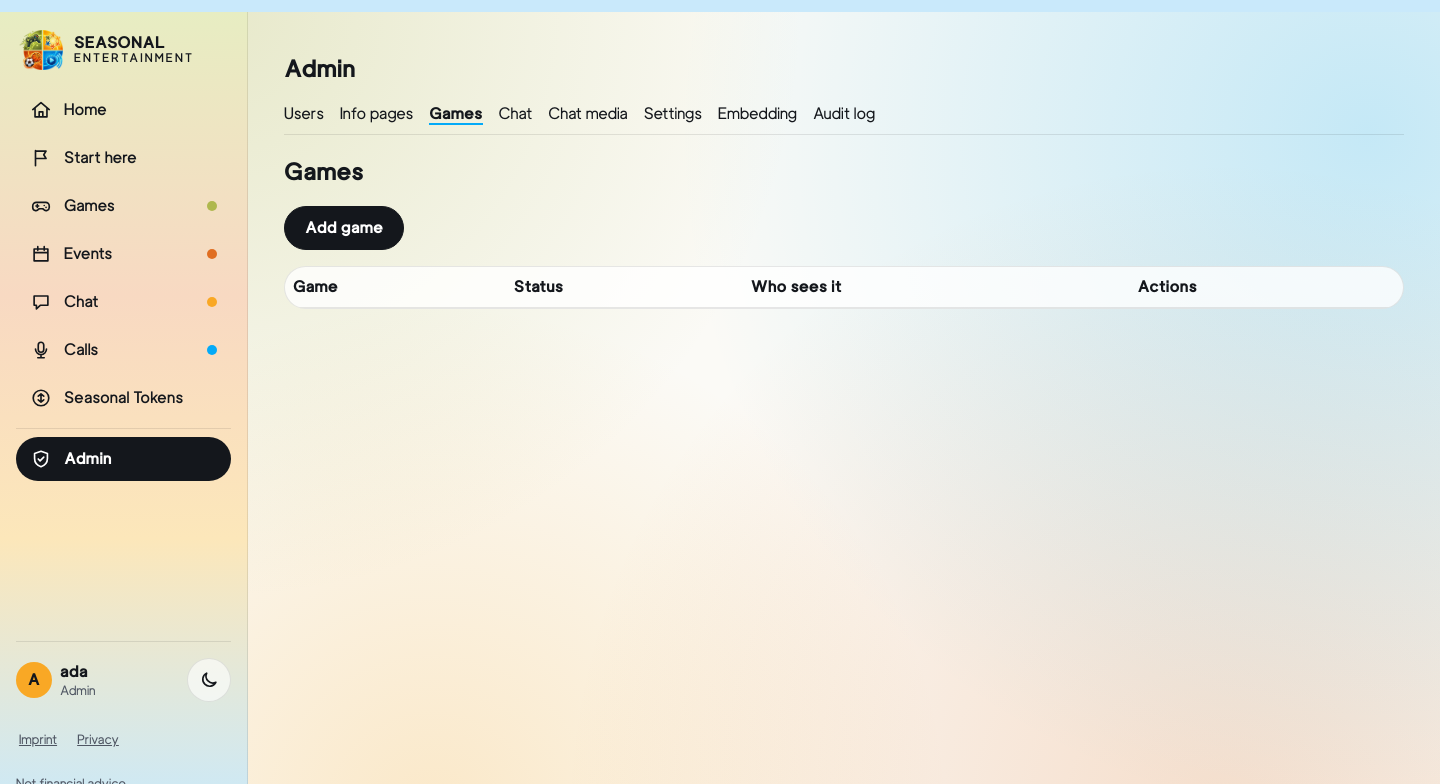
Test: admin games › adds a game with the chosen fields
The width and height of the screenshot is (1440, 784).
Click the button "Add game". click: [344, 228]
box: [284,206,404,250]
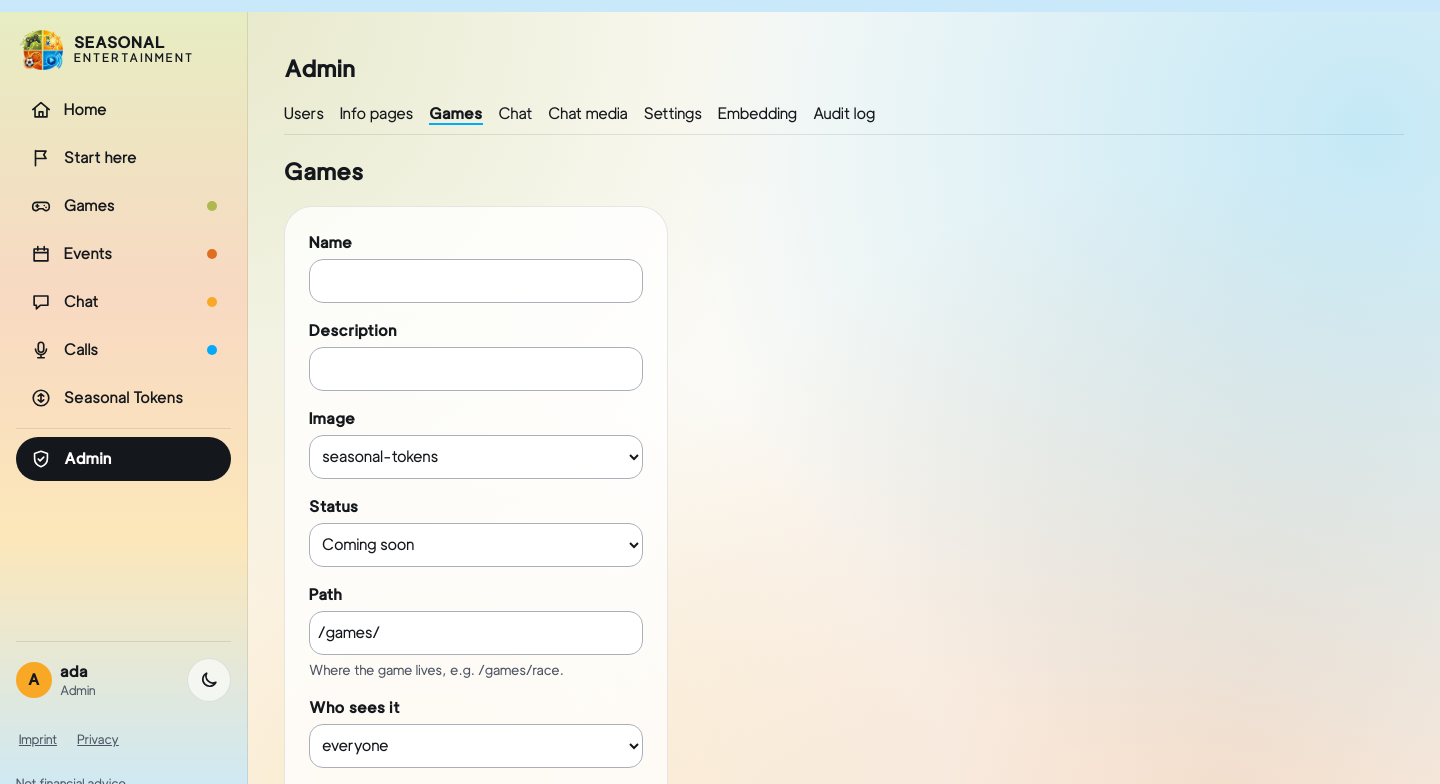
Type "Quiz" into the field labelled "Name". click: [476, 280]
box: [309,258,643,302]
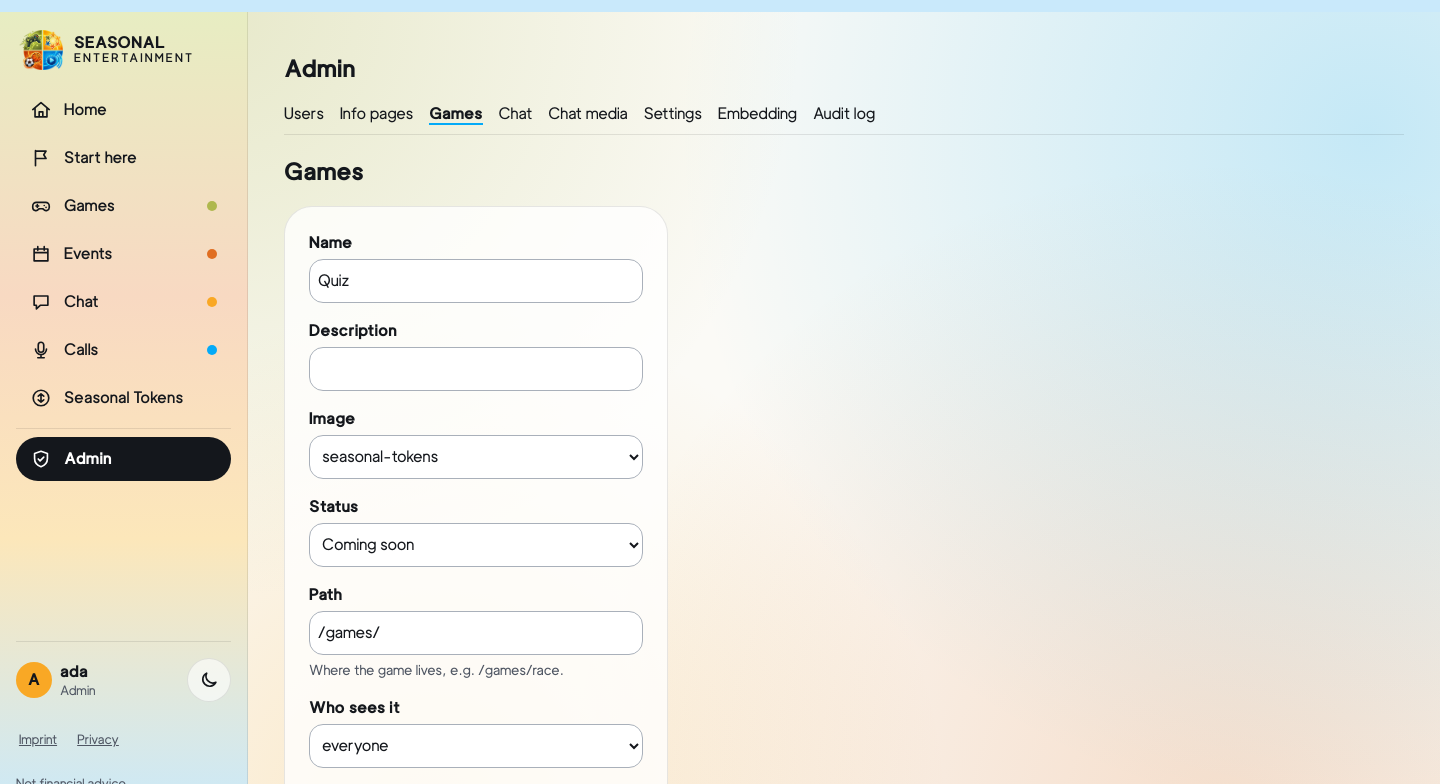
Replace the text in the field labelled "Path" with "/games/quiz". click: [476, 632]
box: [309,610,643,654]
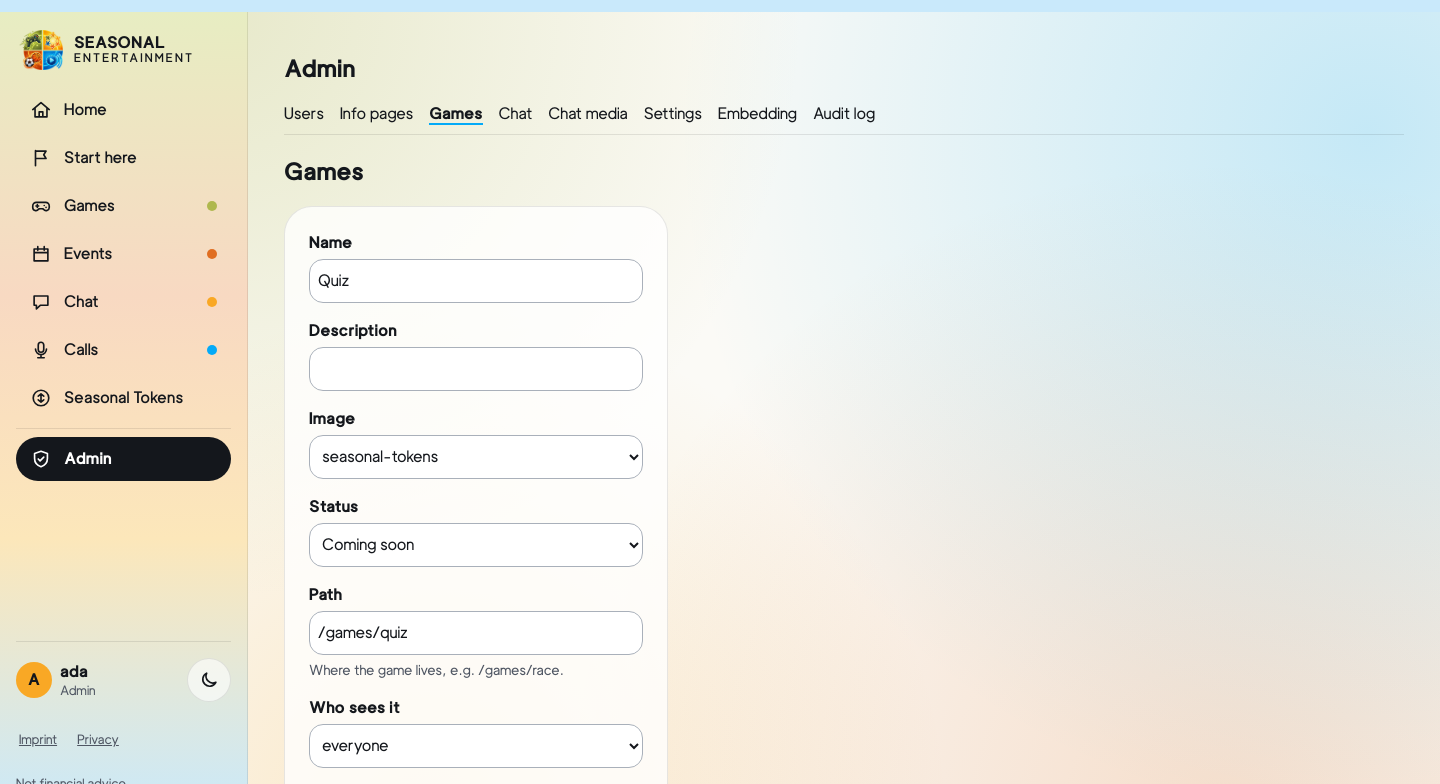
Select "Available" in the dropdown labelled "Status". click: [476, 544]
box: [309,522,643,566]
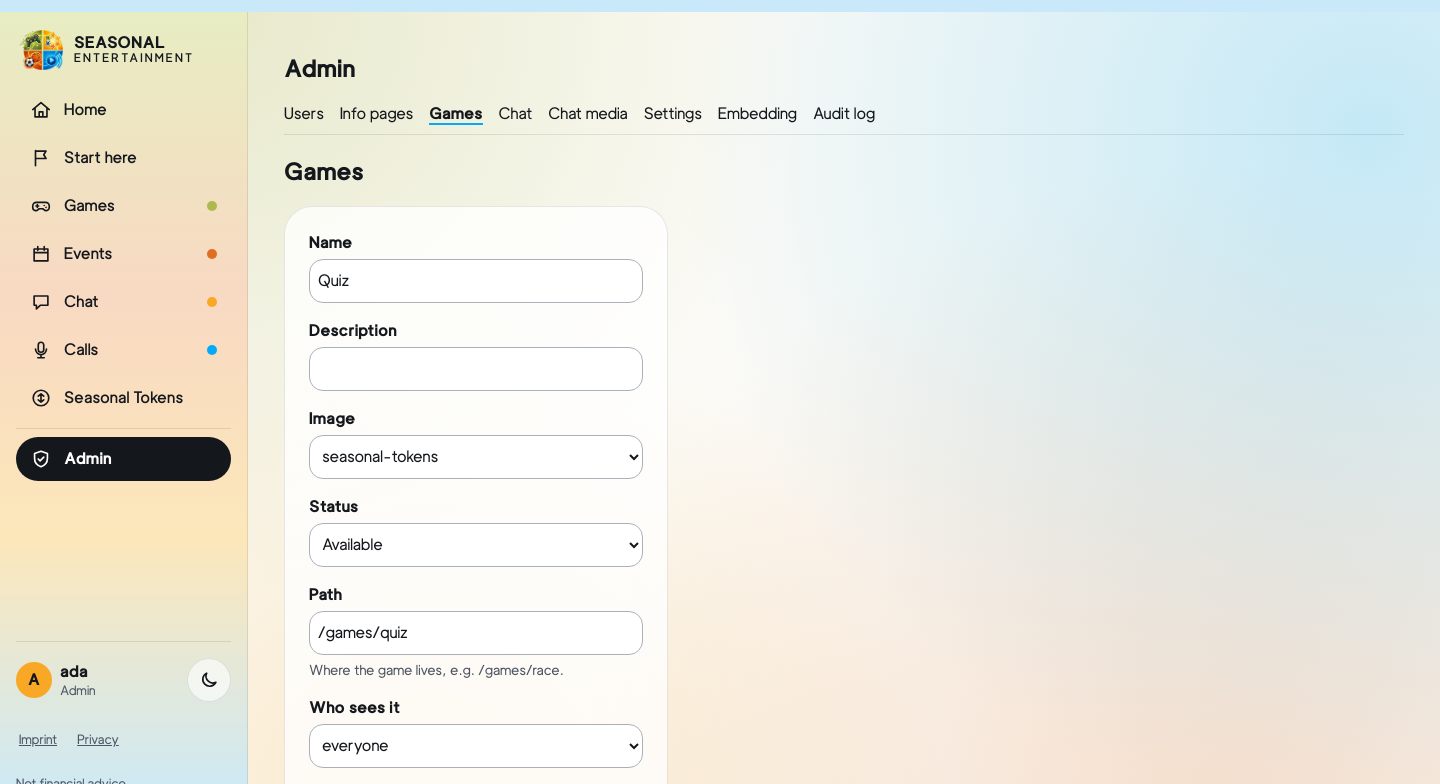
Select "members" in the dropdown labelled "Who sees it". click: [476, 746]
box: [309,724,643,768]
(page scrolled)
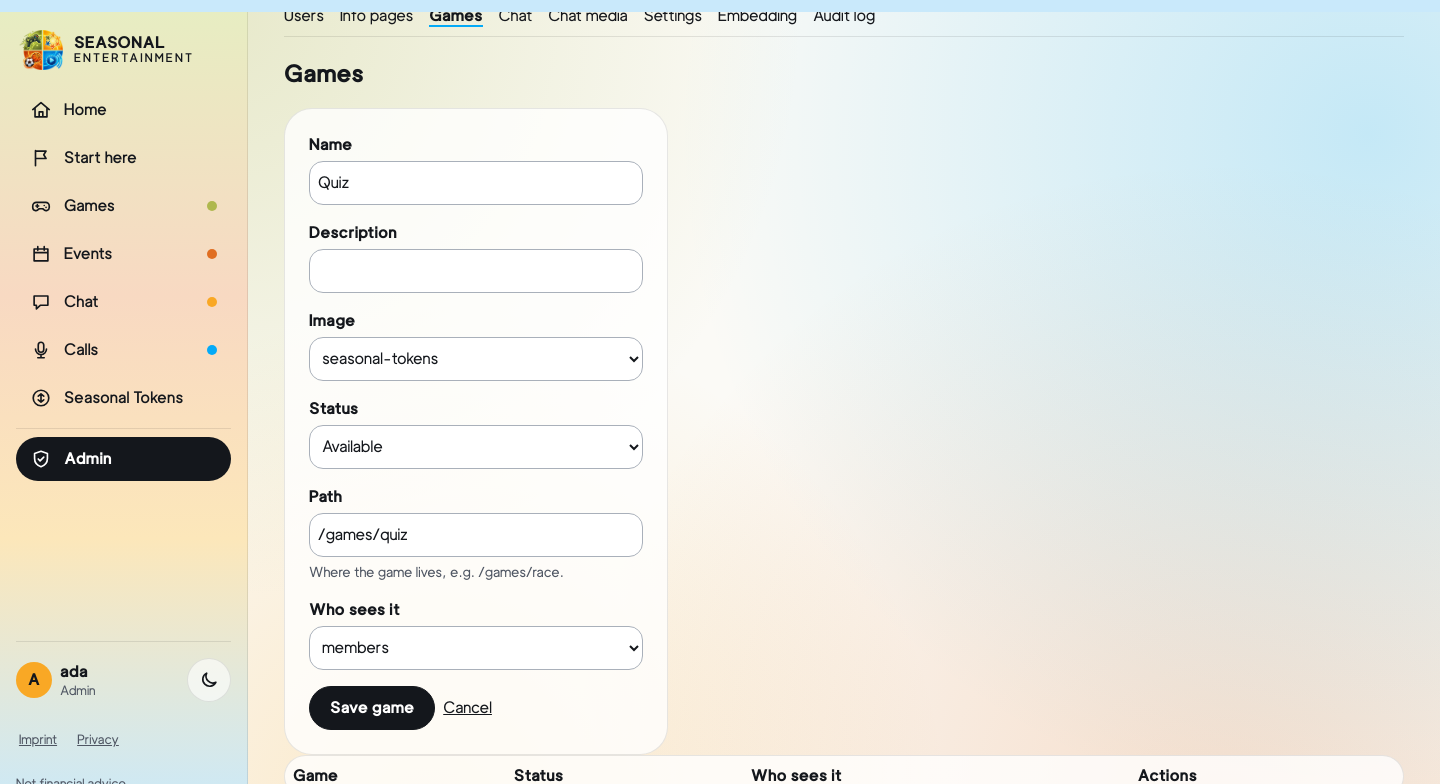
Click the button "Save game". click: [372, 708]
box: [309,686,435,730]
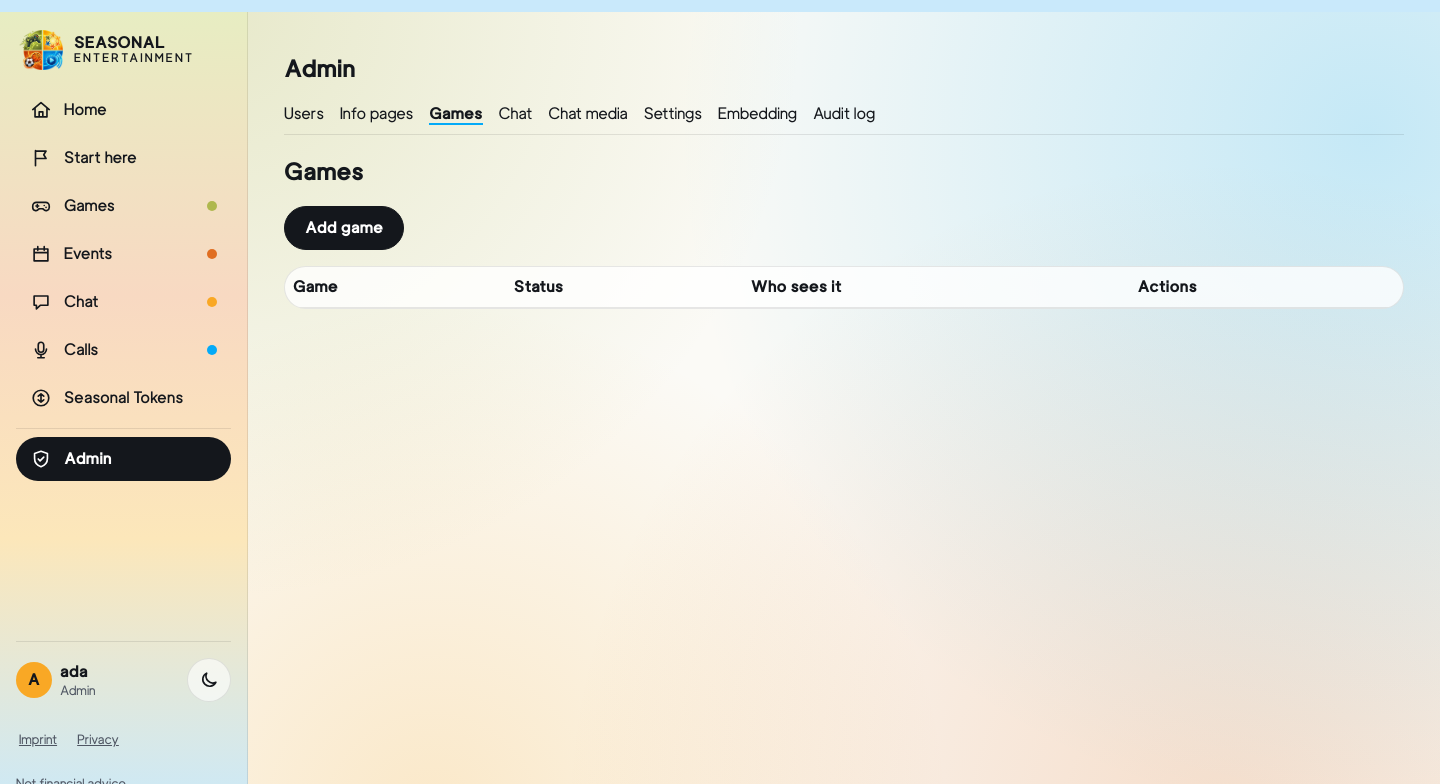
Now the button "Add game" is shown, box [284,206,404,250]
